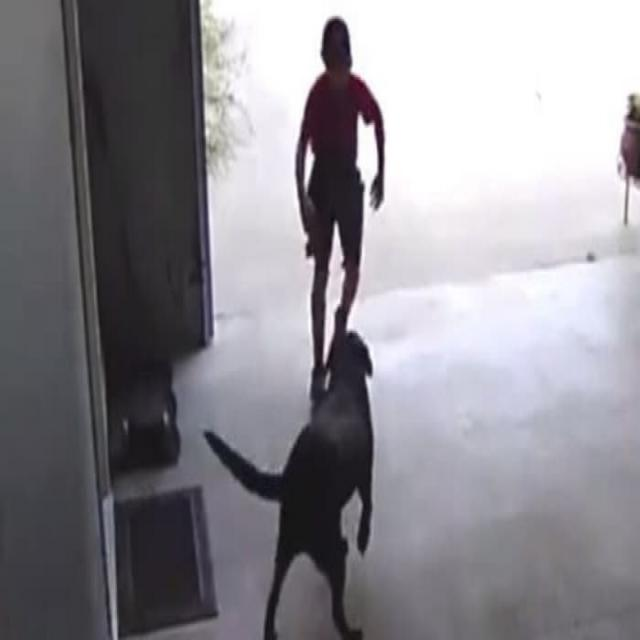dog: (204, 318, 393, 640)
